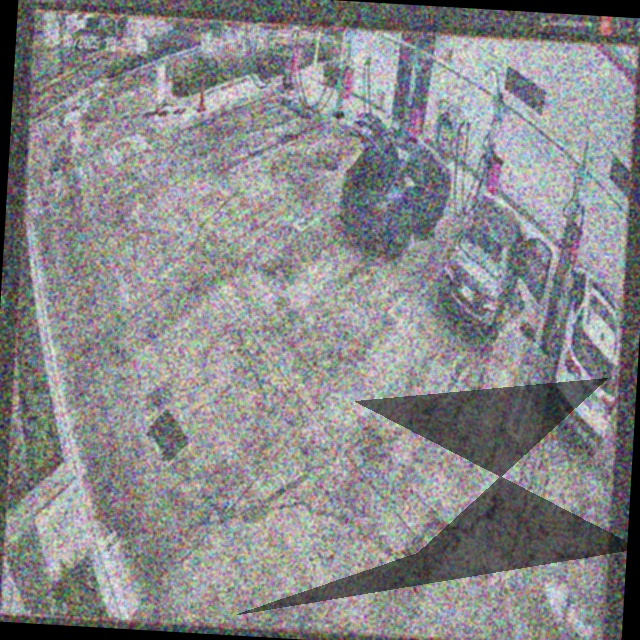Car: (339, 114, 454, 260), (439, 191, 550, 334)
